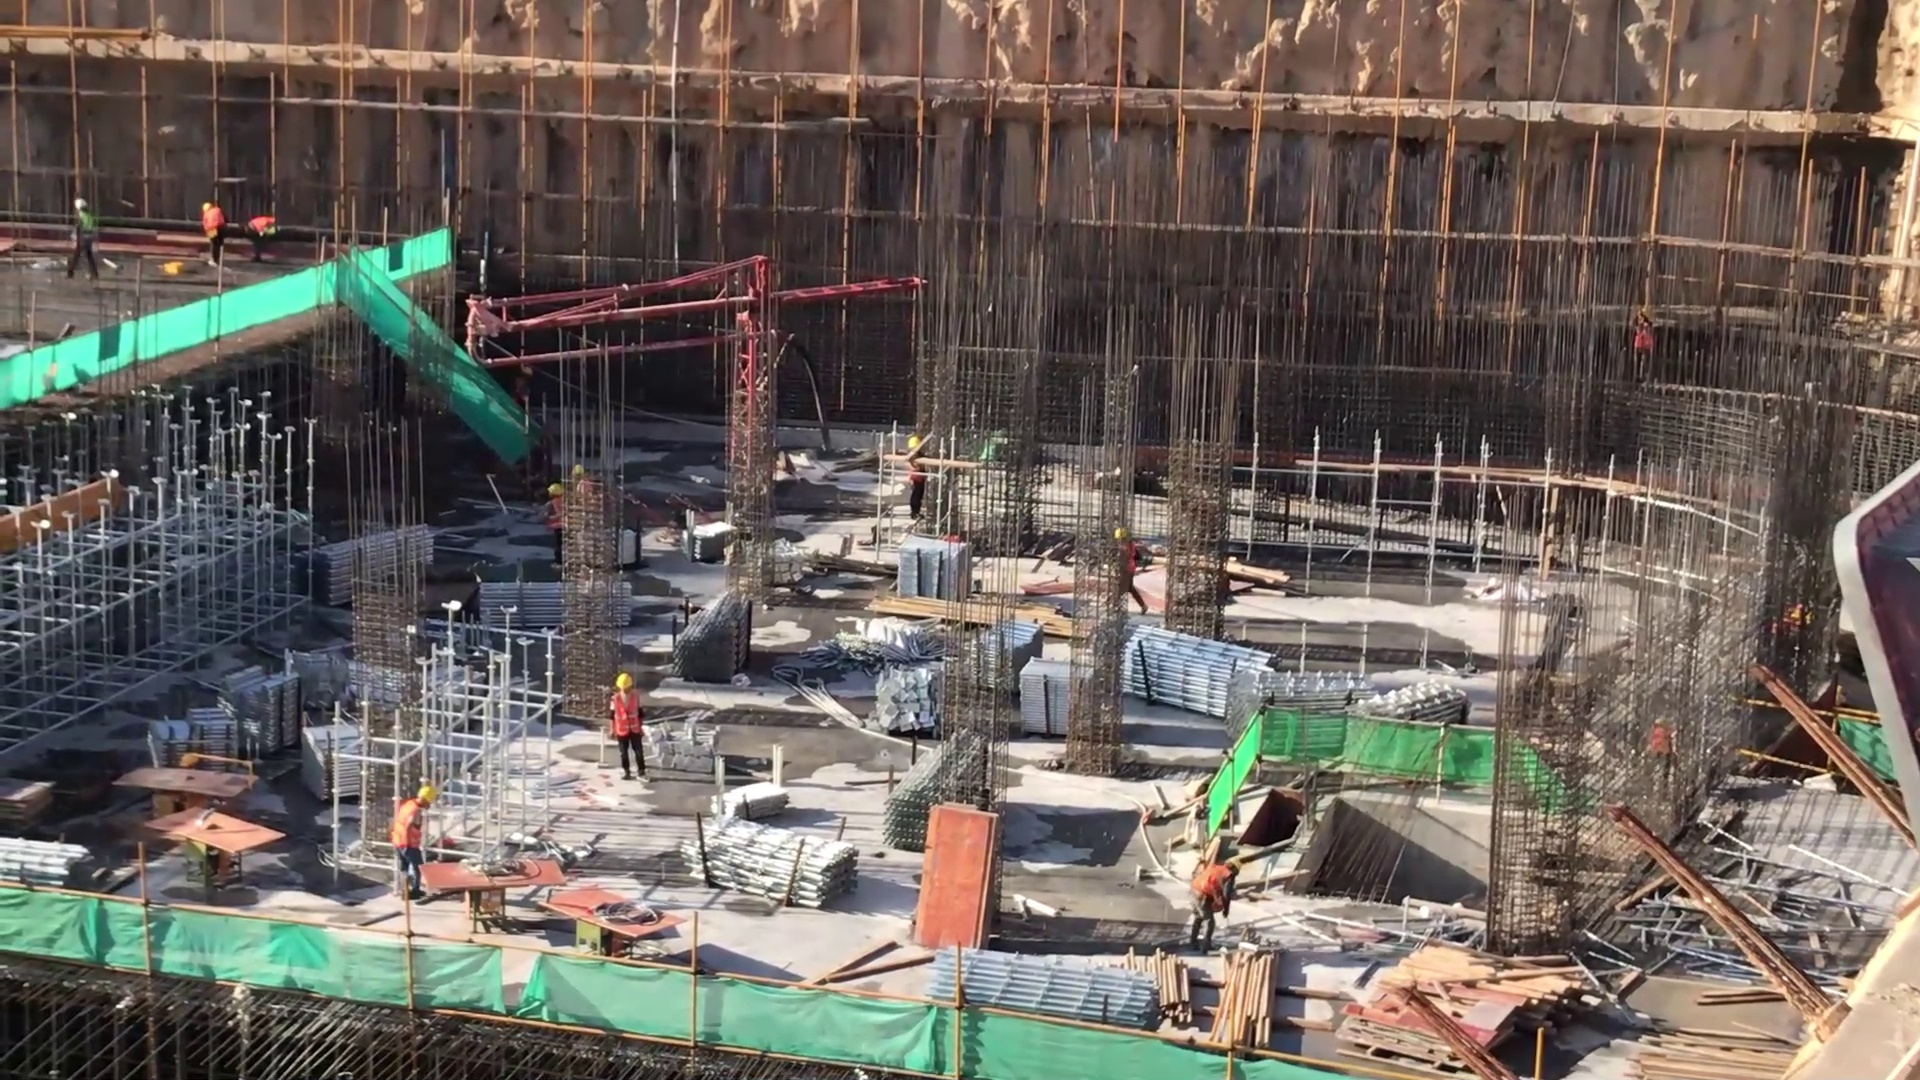board: (1325, 982, 1546, 1064), (905, 796, 1009, 951), (1, 766, 62, 836)
cutter: (528, 876, 694, 968), (420, 842, 567, 937), (141, 806, 290, 892), (112, 763, 254, 824)
helmet: (611, 672, 639, 699), (543, 479, 568, 503), (1223, 856, 1248, 879), (414, 785, 437, 807), (908, 434, 928, 456), (1114, 525, 1133, 545), (73, 198, 91, 216), (202, 200, 213, 214)
person: (389, 775, 438, 919), (599, 668, 653, 793), (1192, 841, 1244, 962), (892, 423, 933, 539), (1103, 528, 1149, 627), (60, 197, 101, 286), (241, 204, 284, 285), (540, 475, 570, 583), (195, 198, 228, 282)
scaffold: (916, 941, 1166, 1037), (694, 810, 852, 915), (1230, 654, 1382, 762), (1118, 623, 1267, 729), (294, 519, 431, 609), (1342, 677, 1475, 768), (141, 704, 238, 795), (672, 600, 764, 693), (476, 582, 628, 633), (219, 662, 298, 753), (962, 618, 1051, 694), (305, 715, 374, 809)
vest: (1192, 863, 1235, 915), (610, 693, 648, 747), (395, 800, 426, 863), (545, 499, 566, 534), (248, 211, 273, 239), (201, 209, 224, 235), (76, 213, 93, 248)
wood: (1623, 1024, 1783, 1080)
